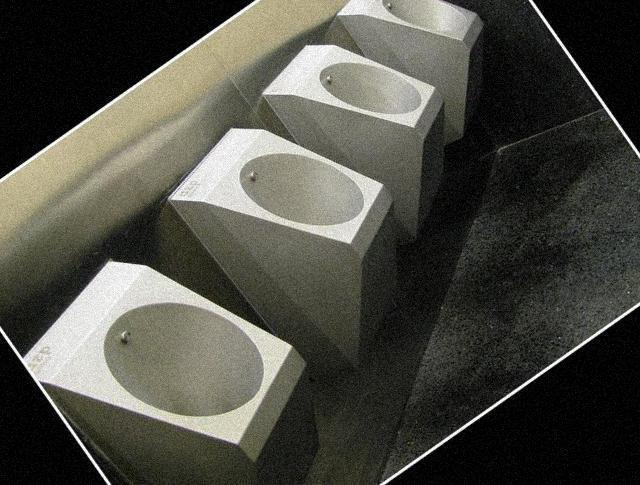Sanitario: (155, 78, 465, 409), (17, 214, 382, 485), (263, 8, 499, 262), (325, 0, 541, 171)
